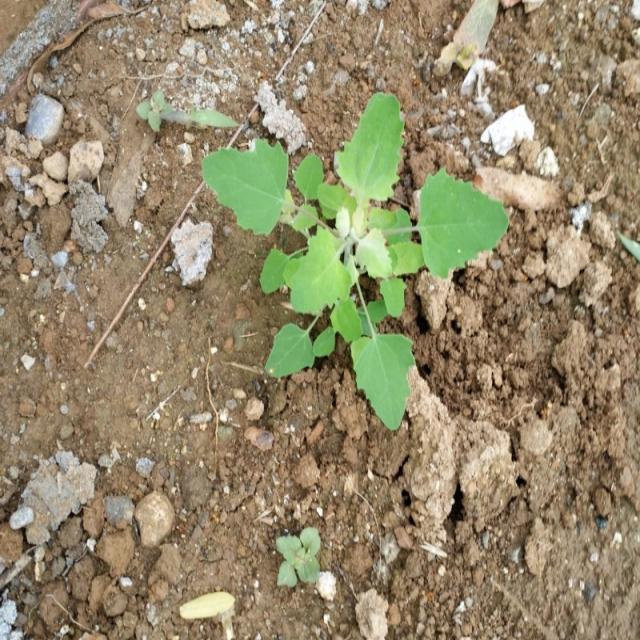ca: (204, 92, 510, 432)
